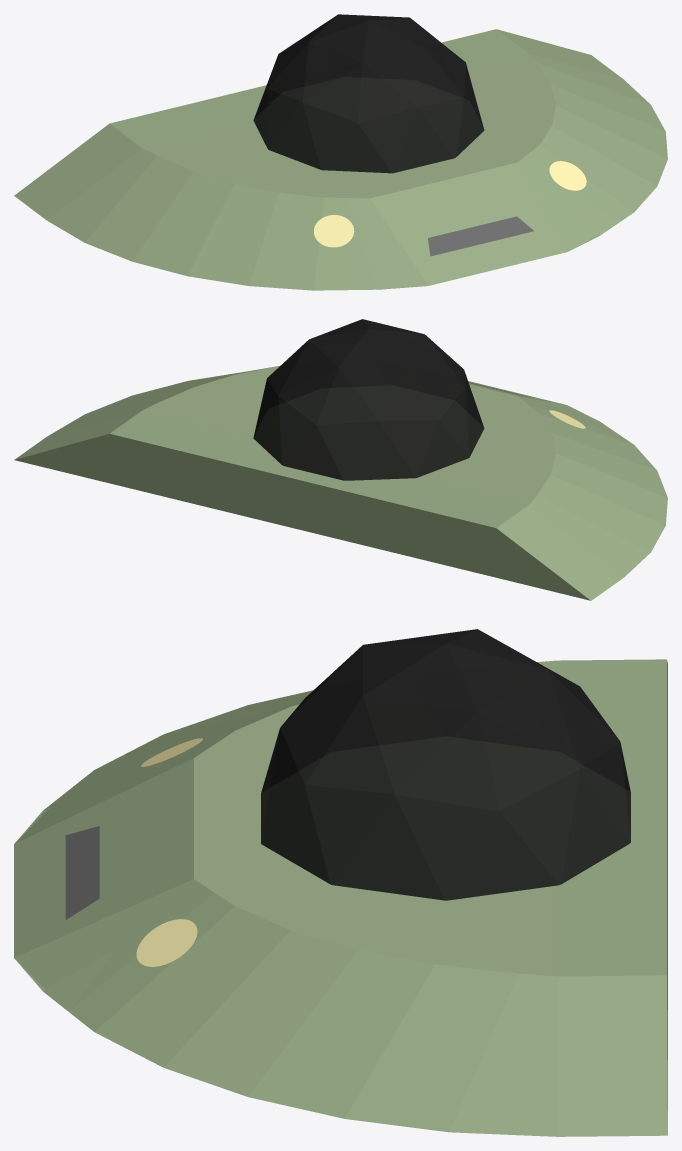
Rendered from wallbug ship.glb.
3 renders of one model, top to bottom at view 1: azimuth 30°, elevation 25°; view 2: azimuth 150°, elevation 25°; view 3: azimuth 270°, elevation 25°, orthographic. The views are drawn at different scales.
Visible parts, largest first — view 1: hull, cockpit, hullGrille, lights; view 2: hull, cockpit; view 3: hull, cockpit, hullGrille, lights.
Boxes of the visible parts, left/top/right/bottom form: hull: left=14, top=29, right=667, bottom=290; cockpit: left=253, top=14, right=484, bottom=173; hullGrille: left=428, top=216, right=533, bottom=256; lights: left=314, top=161, right=586, bottom=247; hull: left=14, top=366, right=667, bottom=600; cockpit: left=253, top=319, right=484, bottom=480; hull: left=14, top=659, right=667, bottom=1136; cockpit: left=261, top=629, right=630, bottom=900; hullGrille: left=65, top=826, right=99, bottom=919; lights: left=136, top=738, right=202, bottom=966.
Size of the model in its own units: 8 by 2.03 by 4.69.
